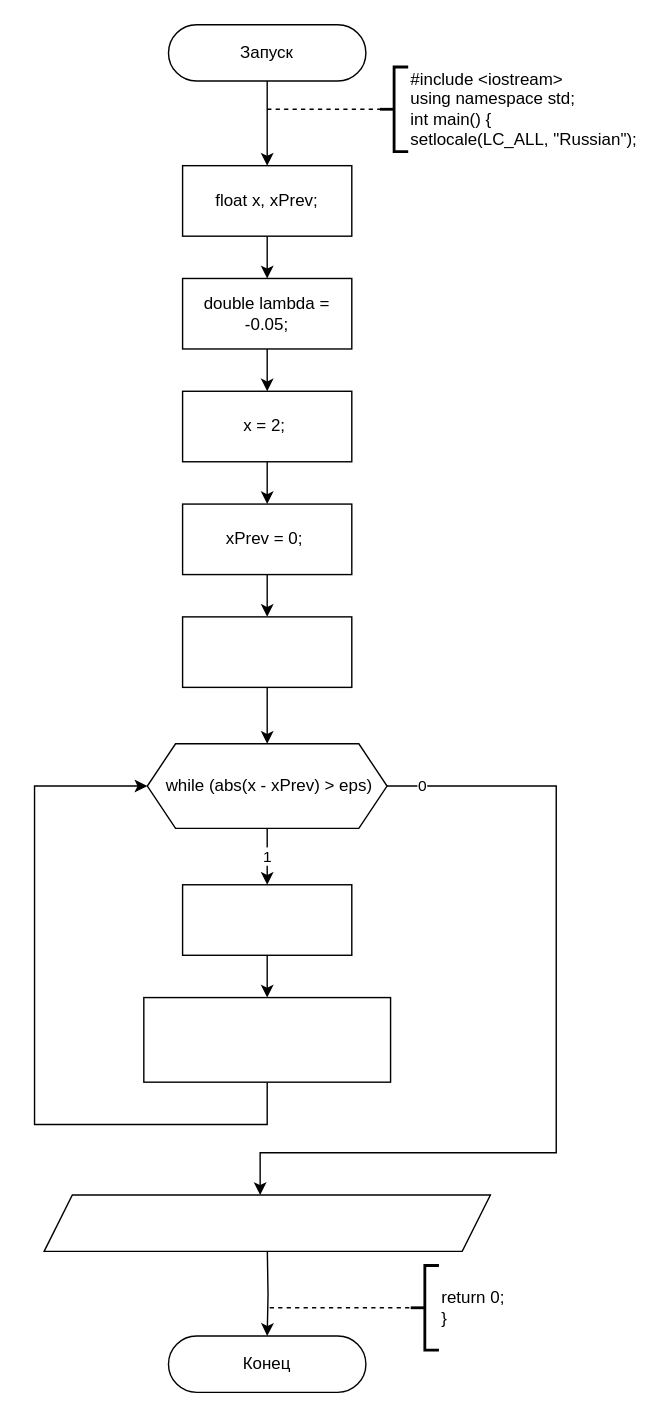
Image size: 663x1417. Some labels were removed from this diagram. Here are the shapes that lost their labels. From the top down, the box of each, then its label:
(181, 615, 352, 687): double eps = 0.000001;
(181, 883, 352, 955): xPrev = x;
(142, 996, 391, 1082): x = lambda * (pow(xPrev, 3) - xPrev - 1) + xPrev;
(43, 1194, 490, 1251): cout << "Корень: " << x << endl;
